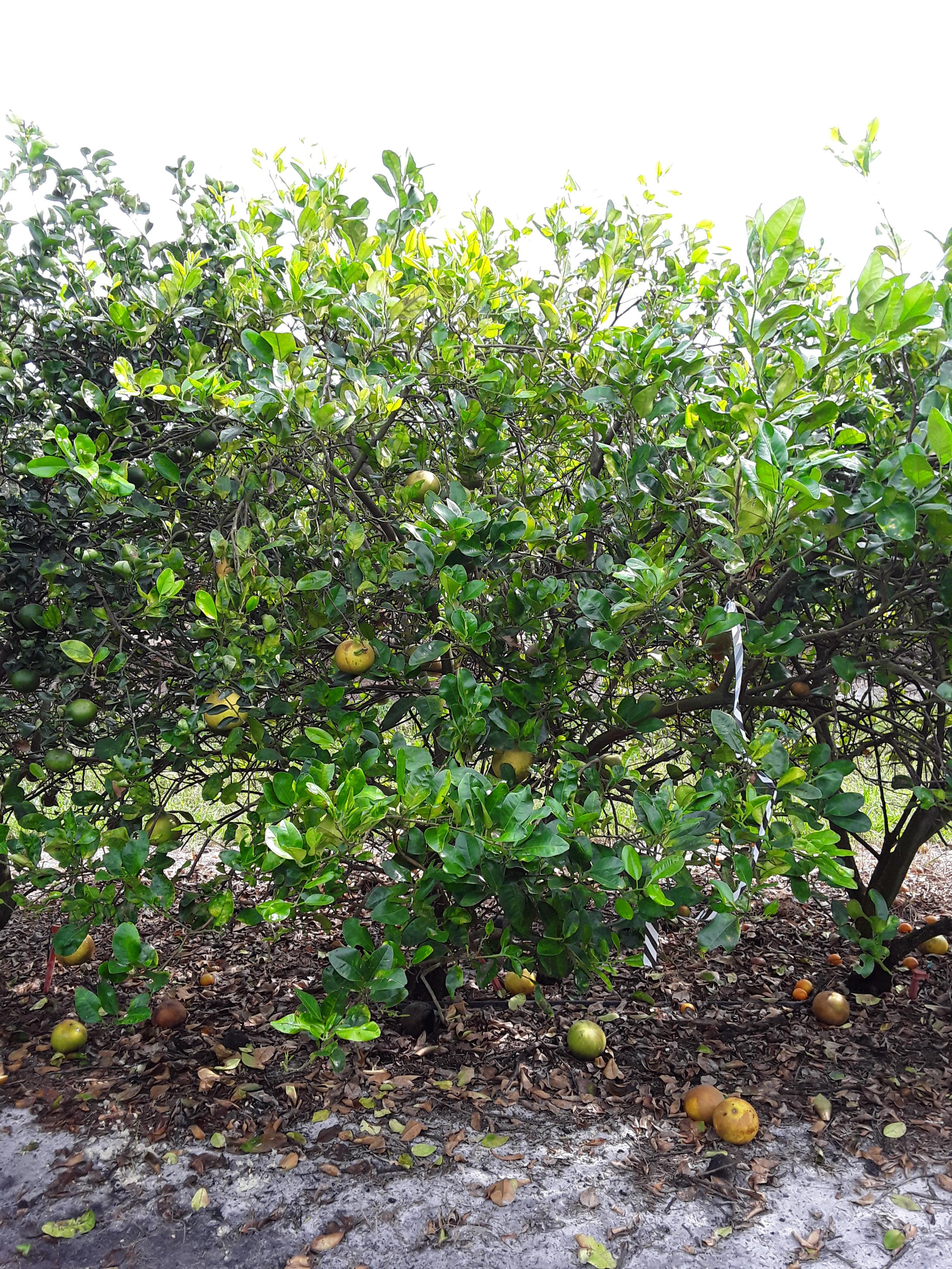fruit_on_ground: (488, 734, 540, 784), (49, 919, 98, 968), (205, 680, 249, 731), (332, 637, 379, 676), (215, 549, 264, 584), (141, 809, 185, 847), (593, 749, 635, 787), (404, 468, 443, 504), (396, 642, 437, 670), (63, 697, 101, 727), (16, 603, 50, 631), (702, 624, 738, 650), (10, 666, 42, 694), (42, 749, 78, 773), (120, 465, 152, 491), (459, 463, 485, 494), (635, 690, 665, 716), (193, 427, 222, 453), (425, 652, 447, 679), (371, 608, 396, 631), (524, 644, 549, 666), (126, 438, 152, 459), (182, 687, 206, 709), (171, 520, 192, 544), (0, 589, 21, 613), (789, 678, 812, 698), (40, 791, 60, 810), (104, 814, 127, 830), (167, 446, 184, 463), (24, 767, 40, 783), (709, 648, 727, 662), (707, 681, 722, 692)
fruit_on_tree: (710, 1094, 764, 1147), (397, 1000, 443, 1045), (683, 1084, 733, 1125), (566, 1015, 609, 1062), (49, 1017, 91, 1057), (812, 989, 853, 1027), (150, 996, 189, 1029), (502, 966, 539, 998), (917, 929, 950, 957), (673, 897, 700, 920), (197, 968, 220, 991), (824, 952, 847, 968), (899, 954, 922, 970), (679, 998, 697, 1018), (795, 978, 814, 995), (923, 909, 939, 929), (910, 862, 928, 879), (915, 840, 931, 858), (752, 952, 770, 968), (791, 985, 809, 1001), (895, 921, 914, 935), (896, 884, 918, 895), (711, 850, 724, 867), (892, 897, 909, 909), (744, 838, 758, 851), (741, 922, 756, 932), (712, 834, 724, 846)
